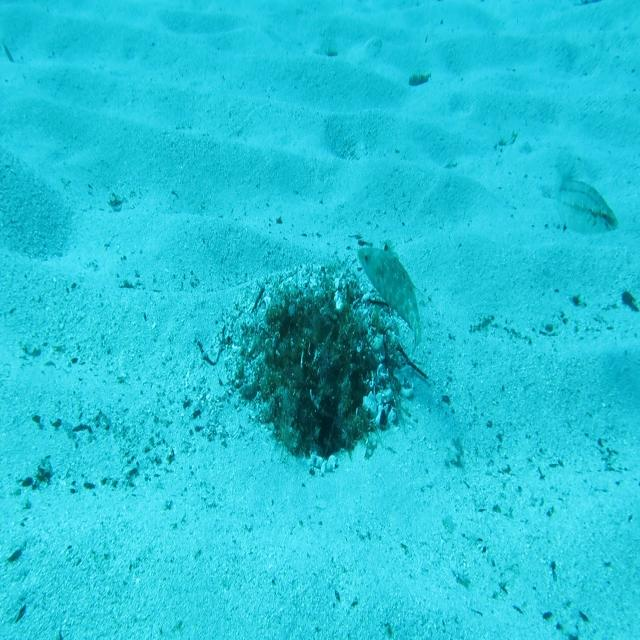BN: (354, 238, 426, 362)
core_nest: (290, 307, 325, 340)
female: (550, 166, 620, 240)
nest: (212, 240, 424, 494)
vegetation: (410, 65, 433, 89)
